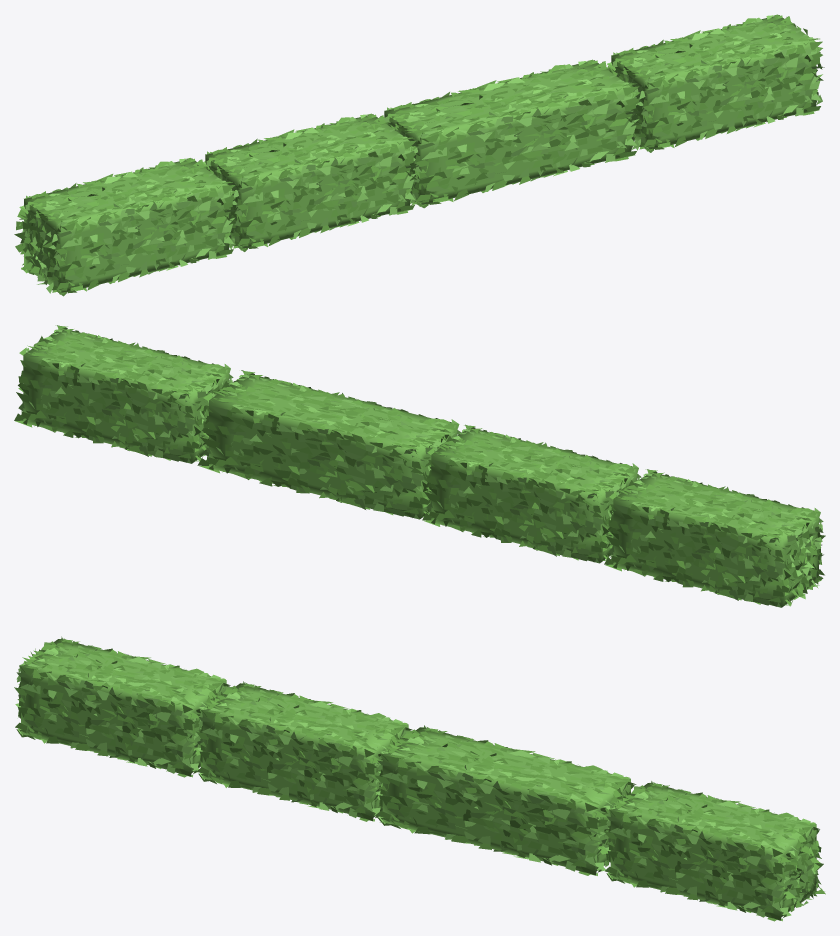
File: BUSH6.fbx
3 views of the same model, one above another, from view 1: azimuth 30°, elevation 25°; view 2: azimuth 150°, elevation 25°; view 3: azimuth 330°, elevation 25° (orthographic).
Visible parts, largest first — view 1: Cube.451; view 2: Cube.451; view 3: Cube.451.
Boxes of the visible parts, x1,y1,x2,y2 form: Cube.451: (14,14,824,296); Cube.451: (14,325,825,607); Cube.451: (14,636,825,921).
Size of the model in its own units: 15877 by 1469 by 1475.
